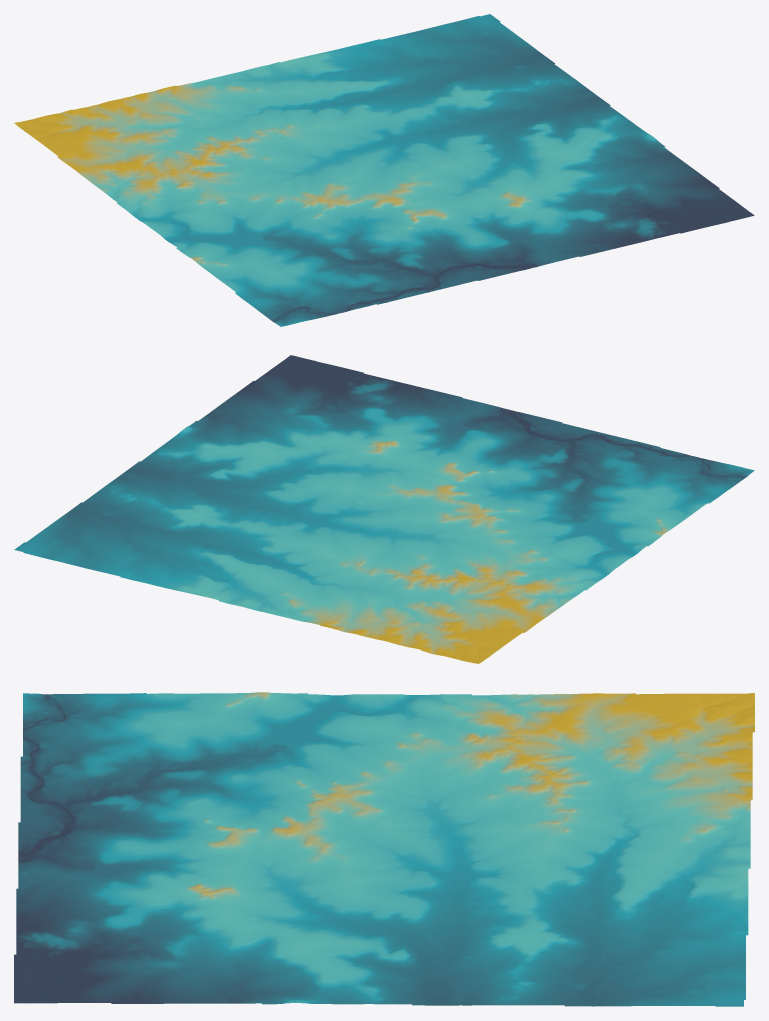
File: terrain.glb
3 views of the same model, one above another, from view 1: azimuth 30°, elevation 25°; view 2: azimuth 150°, elevation 25°; view 3: azimuth 270°, elevation 25° (orthographic). The views are drawn at different scales.
Parts seen in each view (by area): view 1: terrain-chunk-0001, terrain-chunk-0004, terrain-chunk-0003, terrain-chunk-0000, terrain-chunk-0007, terrain-chunk-0005, terrain-chunk-0006, terrain-chunk-0002, terrain-chunk-0008; view 2: terrain-chunk-0004, terrain-chunk-0003, terrain-chunk-0001, terrain-chunk-0000, terrain-chunk-0005, terrain-chunk-0007, terrain-chunk-0006, terrain-chunk-0002, terrain-chunk-0008; view 3: terrain-chunk-0004, terrain-chunk-0001, terrain-chunk-0003, terrain-chunk-0000, terrain-chunk-0007, terrain-chunk-0005, terrain-chunk-0006, terrain-chunk-0002, terrain-chunk-0008.
Boxes of the visible parts, x1,y1,x2,y2 form: terrain-chunk-0001: (361, 163, 646, 283); terrain-chunk-0004: (256, 87, 542, 207); terrain-chunk-0003: (79, 130, 360, 251); terrain-chunk-0000: (181, 208, 462, 326); terrain-chunk-0007: (191, 40, 437, 130); terrain-chunk-0005: (438, 60, 652, 163); terrain-chunk-0006: (14, 83, 254, 172); terrain-chunk-0002: (544, 137, 754, 240); terrain-chunk-0008: (375, 14, 549, 87); terrain-chunk-0004: (189, 455, 473, 575); terrain-chunk-0003: (370, 499, 652, 617); terrain-chunk-0001: (293, 381, 575, 499); terrain-chunk-0000: (475, 426, 754, 542); terrain-chunk-0005: (77, 429, 292, 532); terrain-chunk-0007: (126, 533, 369, 621); terrain-chunk-0006: (306, 575, 544, 663); terrain-chunk-0002: (184, 355, 395, 454); terrain-chunk-0008: (14, 506, 187, 578); terrain-chunk-0004: (295, 810, 577, 932); terrain-chunk-0001: (16, 811, 294, 932); terrain-chunk-0003: (295, 693, 577, 811); terrain-chunk-0000: (20, 692, 294, 813); terrain-chunk-0007: (578, 810, 750, 932); terrain-chunk-0005: (295, 930, 577, 1006); terrain-chunk-0006: (578, 693, 754, 811); terrain-chunk-0002: (14, 930, 294, 1004); terrain-chunk-0008: (578, 931, 748, 1006).
Bounding box in the file's own units: 20600 × 182 × 20600.
